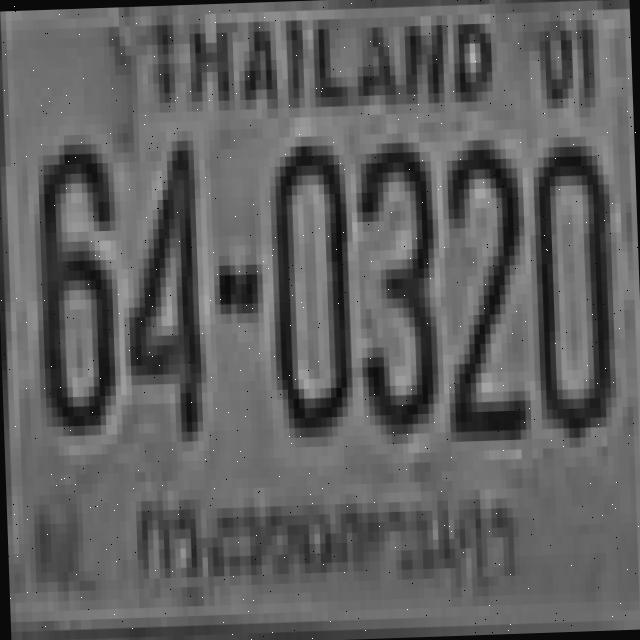0: (526, 131, 612, 434), (262, 135, 348, 428)
2: (437, 129, 523, 432)
3: (351, 132, 437, 425)
4: (117, 130, 203, 434)
6: (26, 133, 116, 427)
Bangkok: (119, 461, 536, 628)
